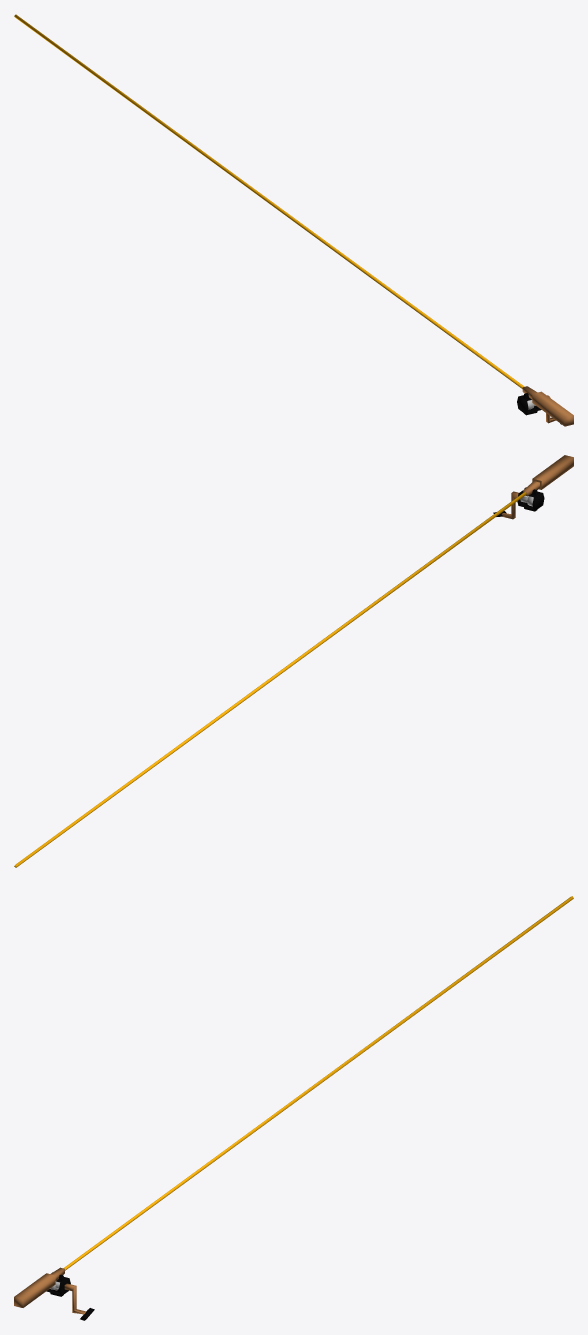
Rendered from fishingRod.fbx.
3 renders of one model, top to bottom at view 1: azimuth 30°, elevation 25°; view 2: azimuth 150°, elevation 25°; view 3: azimuth 330°, elevation 25°, orthographic.
Visible parts, largest first — view 1: polySurface81; view 2: polySurface81; view 3: polySurface81.
Part boxes in pixels (bbox=[...]): polySurface81: bbox=[14, 14, 573, 426]; polySurface81: bbox=[14, 455, 573, 867]; polySurface81: bbox=[14, 896, 573, 1320].
Size of the model in its own units: 365 by 329 by 8086.
